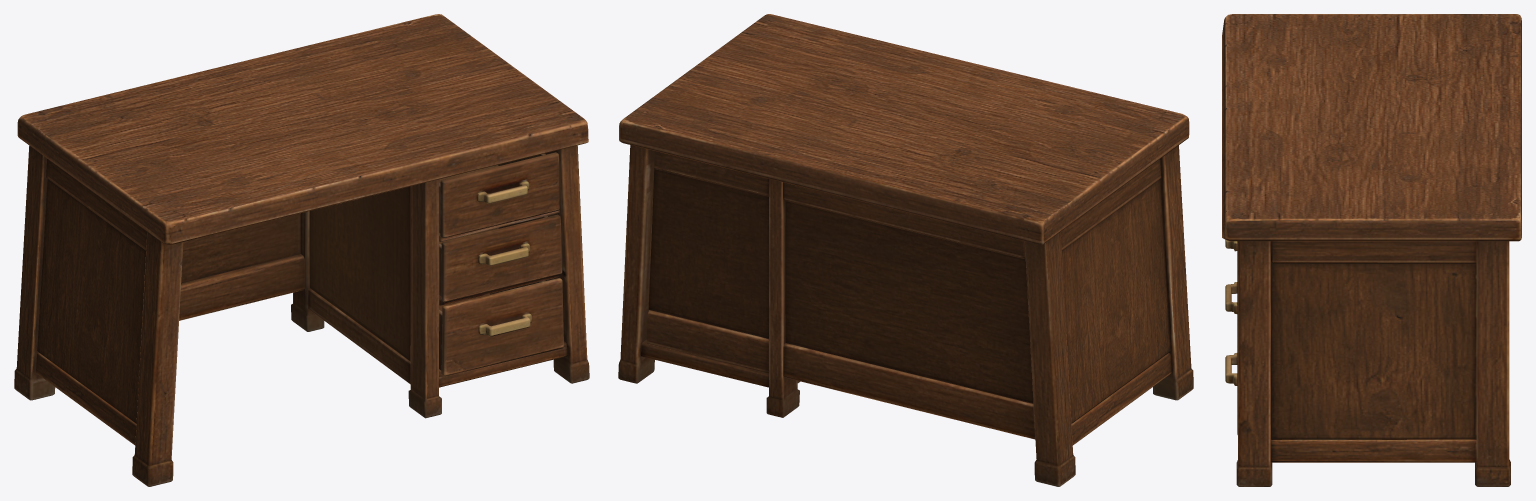
Rendered from P11_staff_desk_Runtime_1k.glb.
The picture shows the model from 3 angles, left to right: view 1: azimuth 30°, elevation 25°; view 2: azimuth 150°, elevation 25°; view 3: azimuth 270°, elevation 25°; orthographic projection.
Parts seen in each view (by area): view 1: tripo_0e3995e3_a410_47b9_be93_596c2707fd7a; view 2: tripo_0e3995e3_a410_47b9_be93_596c2707fd7a; view 3: tripo_0e3995e3_a410_47b9_be93_596c2707fd7a.
Boxes of the visible parts, left/top/right/bottom form: tripo_0e3995e3_a410_47b9_be93_596c2707fd7a: left=14, top=14, right=589, bottom=486; tripo_0e3995e3_a410_47b9_be93_596c2707fd7a: left=618, top=14, right=1193, bottom=486; tripo_0e3995e3_a410_47b9_be93_596c2707fd7a: left=1222, top=14, right=1521, bottom=486.
Size of the model in its own units: 1.28 by 0.74 by 0.7563.
1 material, 1 textured.
